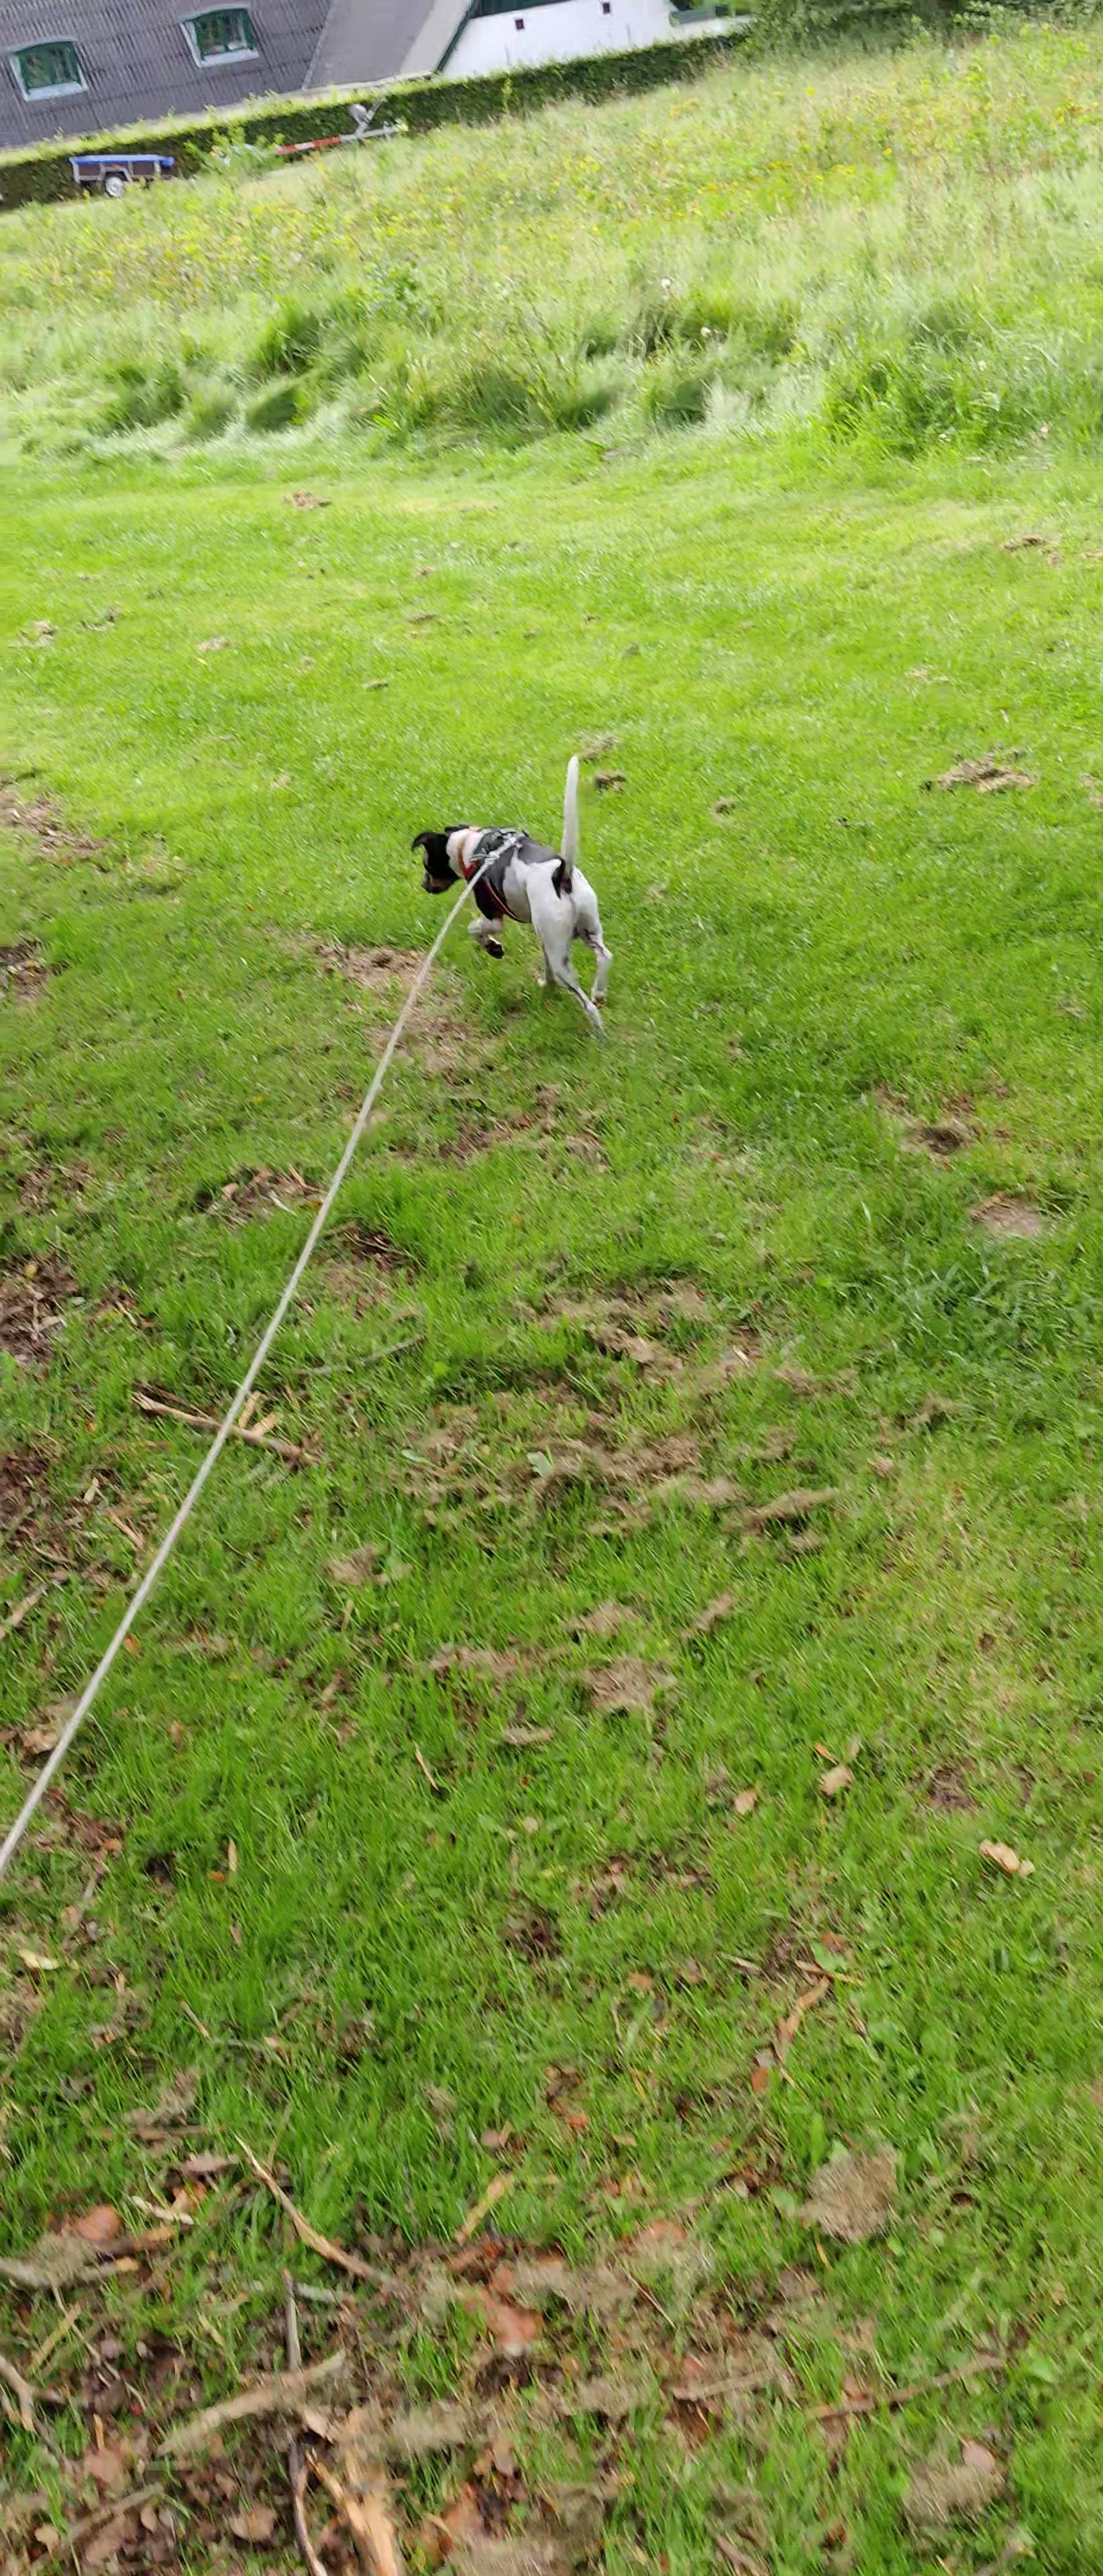Dog: (406, 746, 620, 1048)
